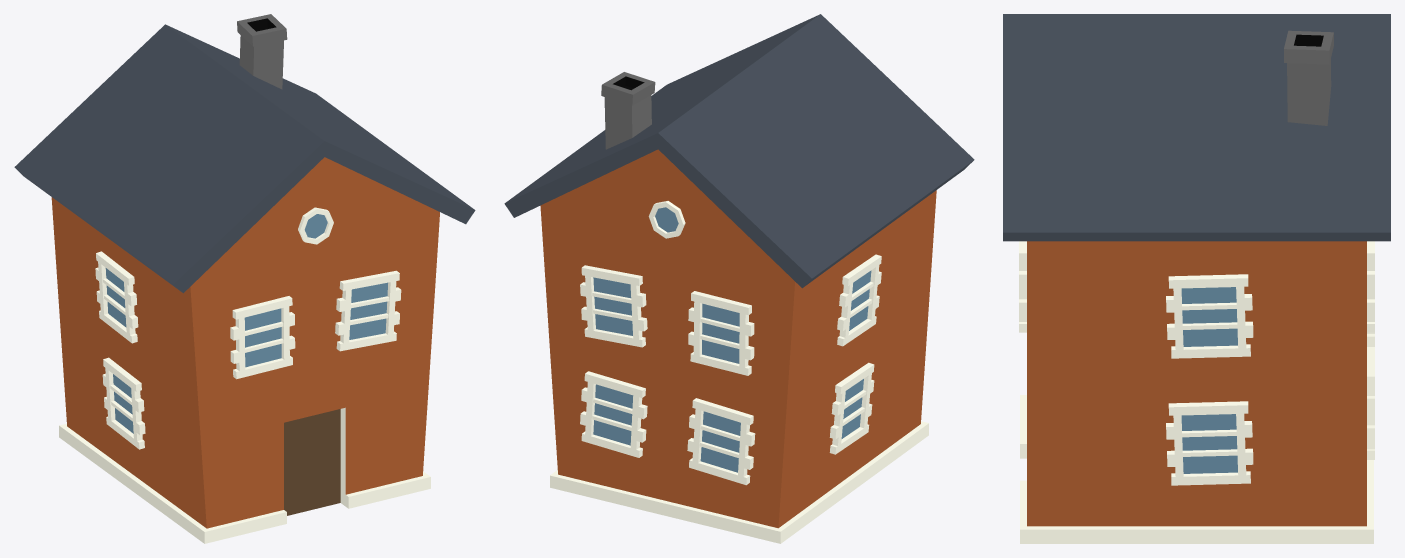
File: house7.gltf
3 views of the same model, side by side, from view 1: azimuth 30°, elevation 25°; view 2: azimuth 150°, elevation 25°; view 3: azimuth 270°, elevation 25° (orthographic). The views are drawn at different scales.
Parts seen in each view (by area): view 1: h2.006; view 2: h2.006; view 3: h2.006.
Boxes of the visible parts, x1=… form: h2.006: x1=14, y1=14, x2=475, y2=543; h2.006: x1=504, y1=14, x2=974, y2=543; h2.006: x1=1003, y1=14, x2=1390, y2=543.
Size of the model in its own units: 7.12 by 8.78 by 6.51.
1 material, 1 textured.
